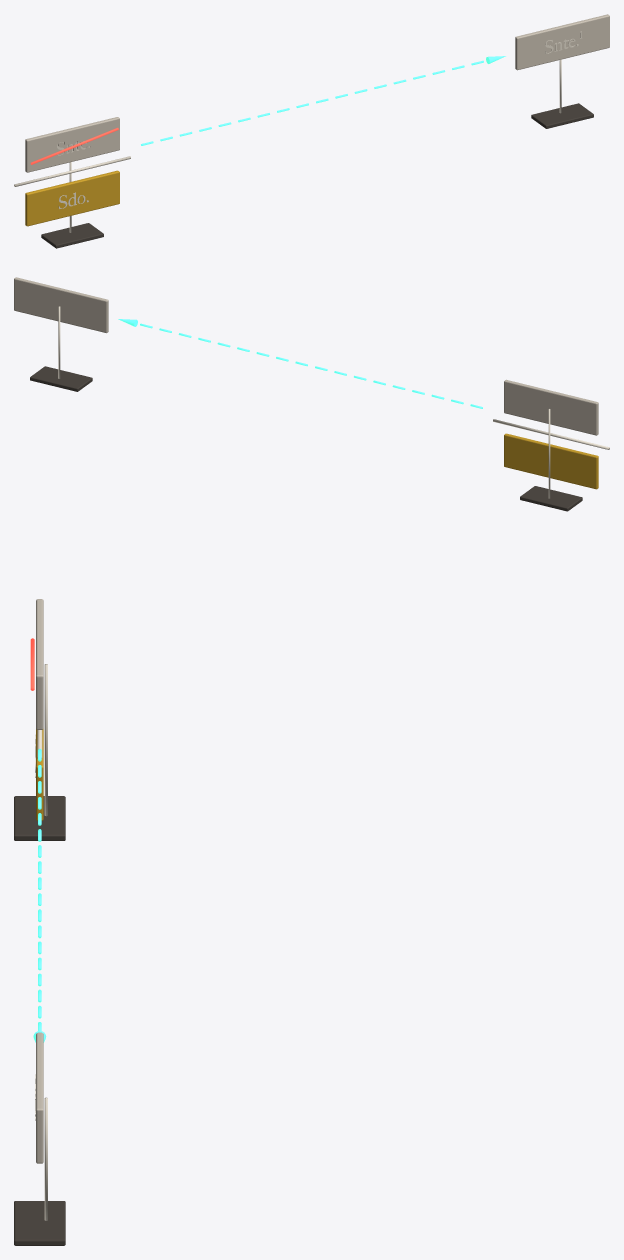
The model's file is sustitucion.glb.
The picture shows the model from 3 angles, top to bottom: view 1: azimuth 30°, elevation 25°; view 2: azimuth 150°, elevation 25°; view 3: azimuth 270°, elevation 25°; orthographic projection. The views are drawn at different scales.
Parts seen in each view (by area): view 1: sdo, snte1_tablilla, snte, figura_montura_plinto, snte1_montura_plinto, flecha_plana_guiones, barra; view 2: snte, snte1_tablilla, sdo, snte1_montura_plinto, figura_montura_plinto, flecha_plana_guiones, barra; view 3: snte1_montura_plinto, figura_montura_plinto, snte1_tablilla, snte, flecha_plana_guiones.
Part boxes in pixels (box(x1,y1,x2,y2)): sdo: box(25, 170, 119, 226); snte1_tablilla: box(515, 14, 609, 70); snte: box(25, 117, 119, 172); figura_montura_plinto: box(41, 223, 103, 248); snte1_montura_plinto: box(531, 103, 593, 128); flecha_plana_guiones: box(141, 60, 483, 145); barra: box(14, 156, 130, 186); snte: box(504, 379, 598, 435); snte1_tablilla: box(14, 277, 108, 333); sdo: box(504, 433, 598, 489); snte1_montura_plinto: box(30, 366, 92, 391); figura_montura_plinto: box(520, 486, 582, 511); flecha_plana_guiones: box(140, 323, 482, 408); barra: box(493, 419, 609, 449); snte1_montura_plinto: box(14, 1201, 65, 1245); figura_montura_plinto: box(14, 796, 65, 840); snte1_tablilla: box(36, 1032, 43, 1163); snte: box(36, 599, 43, 729); flecha_plana_guiones: box(38, 748, 41, 1030).
Size of the model in its own units: 7.64 by 1.34 by 3.92.
